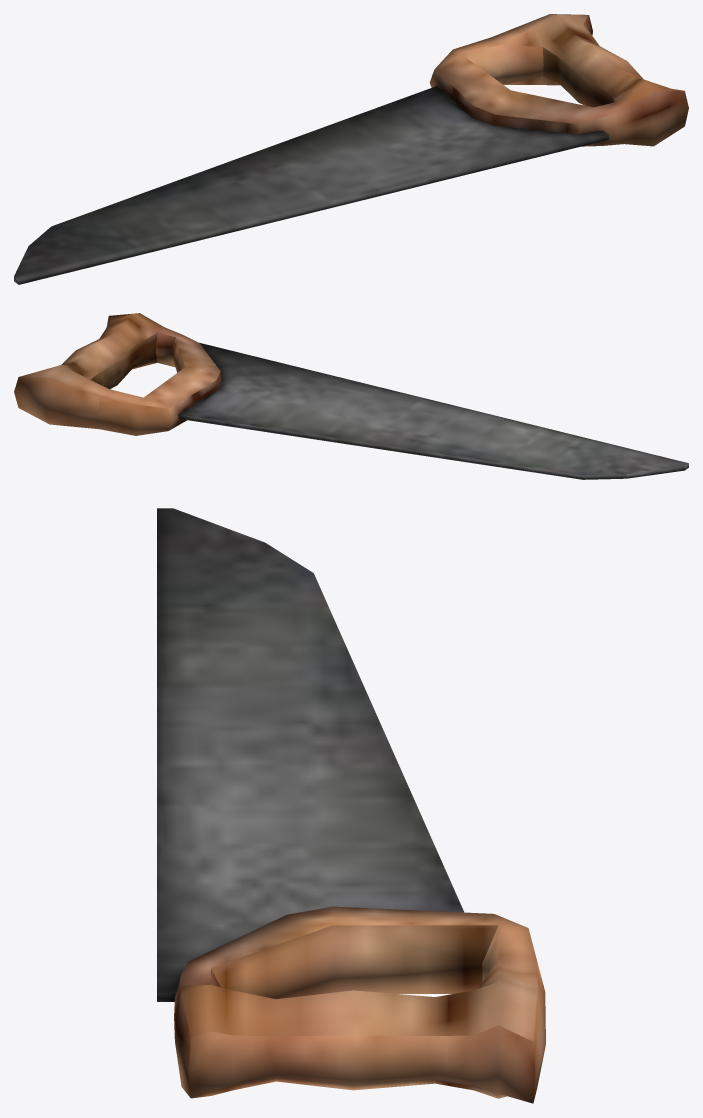
File: saw.fbx
The picture shows the model from 3 angles, top to bottom: view 1: azimuth 30°, elevation 25°; view 2: azimuth 150°, elevation 25°; view 3: azimuth 270°, elevation 25°; orthographic projection. The views are drawn at different scales.
Visible parts, largest first — view 1: handsaw_190412; view 2: handsaw_190412; view 3: handsaw_190412.
Part boxes in pixels (x1,y1,x2,y2): handsaw_190412: [14, 14, 688, 284]; handsaw_190412: [14, 313, 688, 479]; handsaw_190412: [157, 508, 545, 1103].
Bounding box in the file's own units: 50.27 × 4.83 × 14.59.
